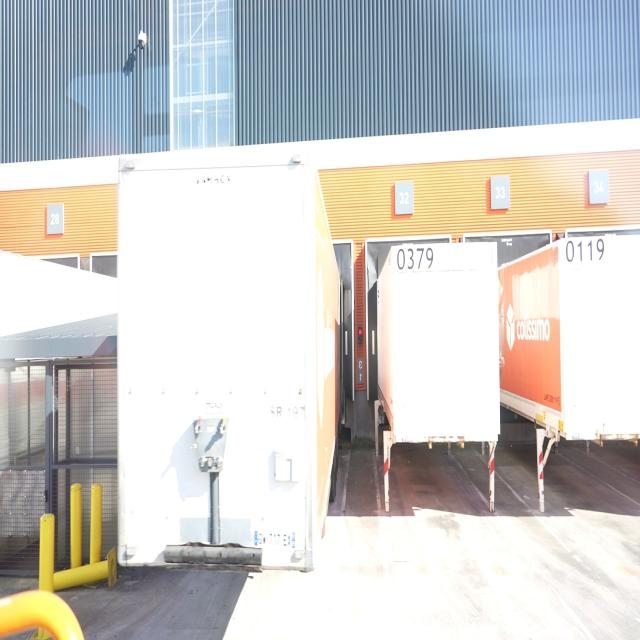Code: (564, 236, 606, 268), (394, 242, 434, 274)
